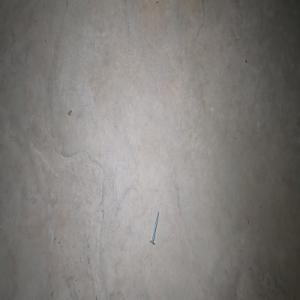Bolt: (149, 209, 159, 244)
